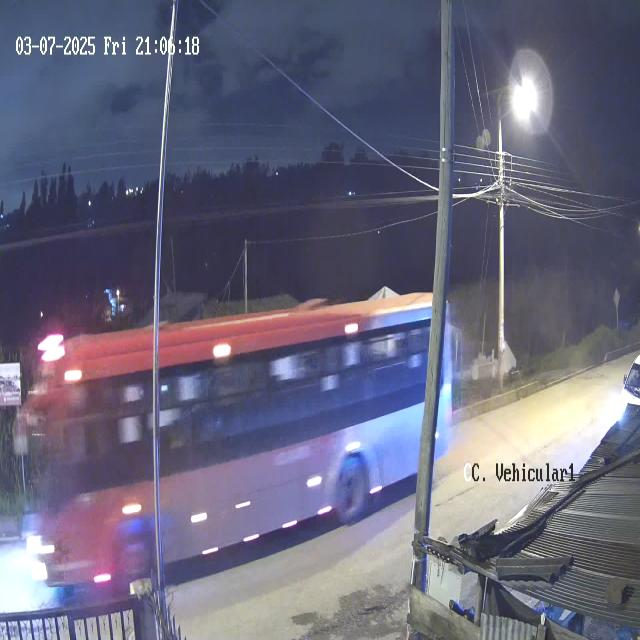BUS: (20, 294, 453, 596)
